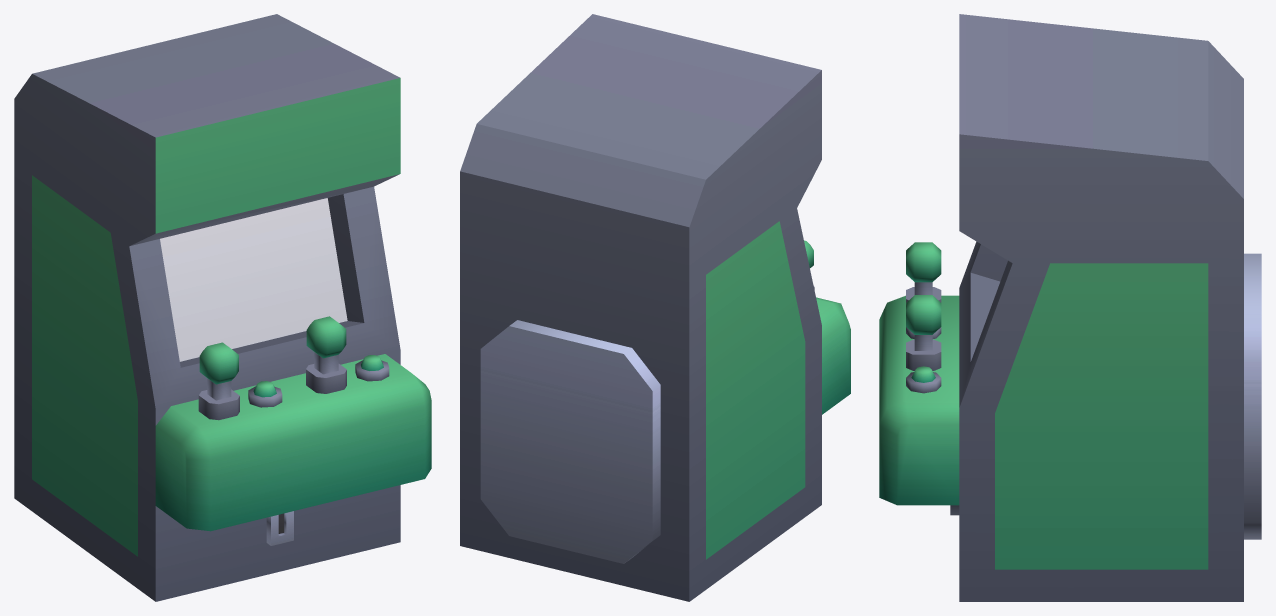
File: arcade-machine.glb
3 views of the same model, side by side, from view 1: azimuth 30°, elevation 25°; view 2: azimuth 150°, elevation 25°; view 3: azimuth 270°, elevation 25° (orthographic). The views are drawn at different scales.
Parts seen in each view (by area): view 1: arcade-machine; view 2: arcade-machine; view 3: arcade-machine.
Boxes of the visible parts, bbox=[...] form: arcade-machine: bbox=[14, 14, 431, 601]; arcade-machine: bbox=[460, 14, 850, 601]; arcade-machine: bbox=[879, 14, 1261, 601].
Bounding box in the file's own units: 0.4 × 0.725 × 0.5375.
1 material, 1 textured.
